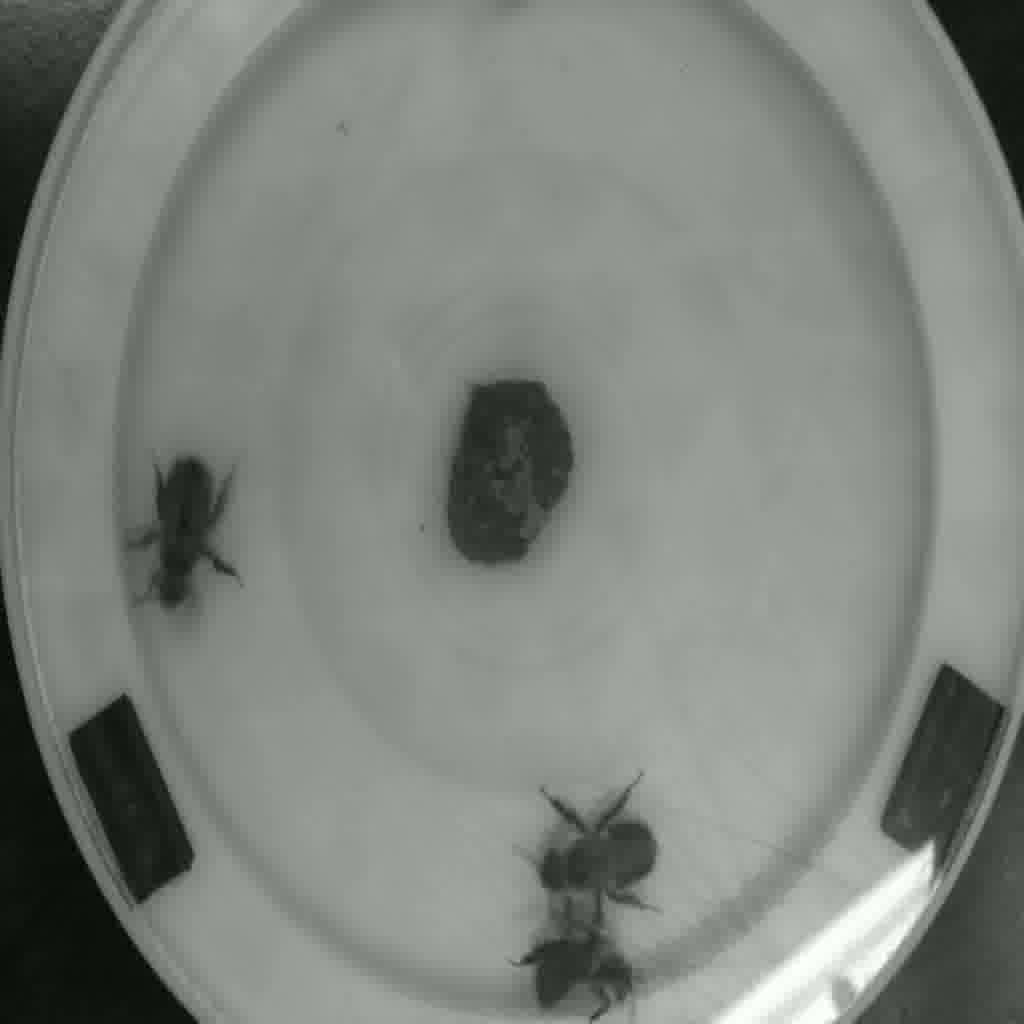bee: (139, 441, 243, 626), (507, 805, 673, 912), (481, 932, 666, 1007)
